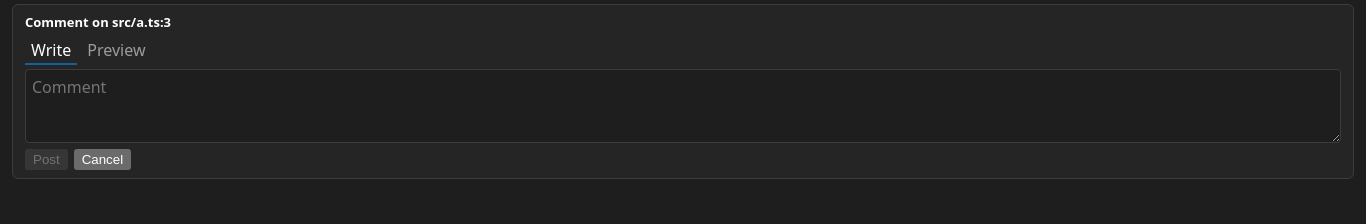
LineComment › shows the error and keeps the text when posting fails
Type "why?" into the text box at (683,106), box [25, 69, 1341, 143]
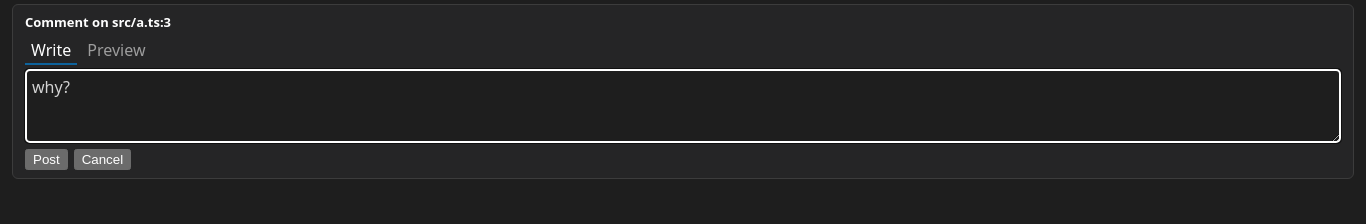
Click the button "Post" at (46,160), box [25, 149, 68, 170]
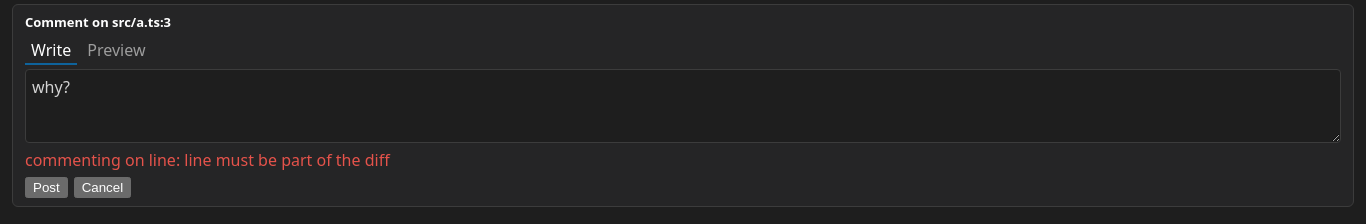
Expected: the button "Post" is enabled, [25, 177, 68, 198]
Expected: the message reads "commenting on line: line must be part of the diff", [25, 149, 390, 171]
